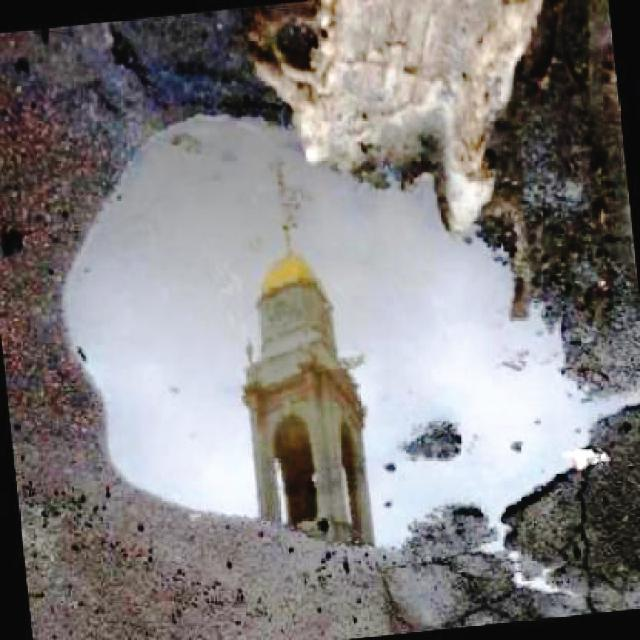pothole: (63, 93, 640, 562)
